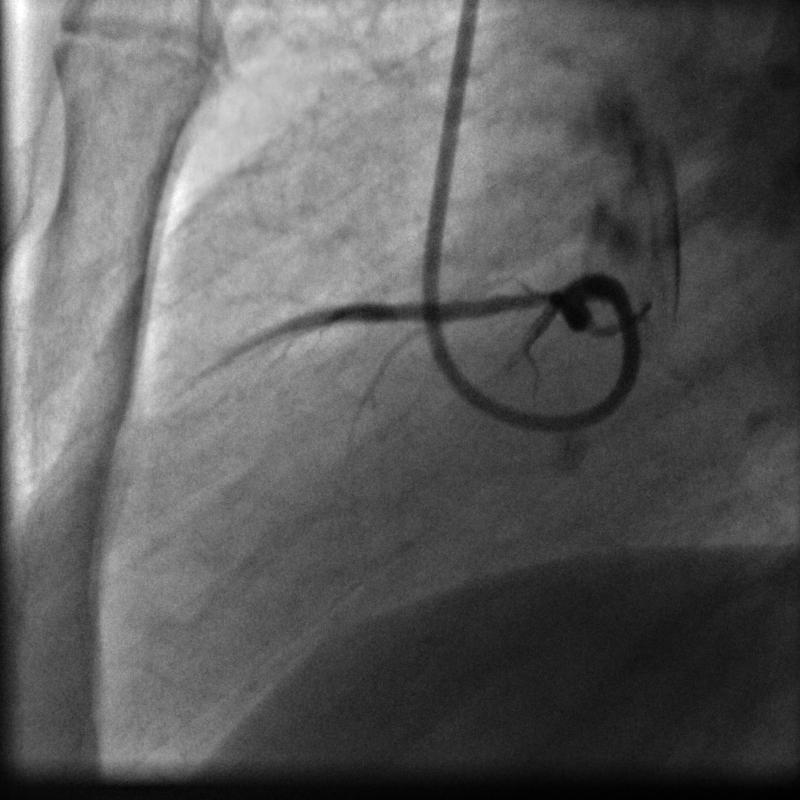Stenosis: (373, 294, 399, 328)
